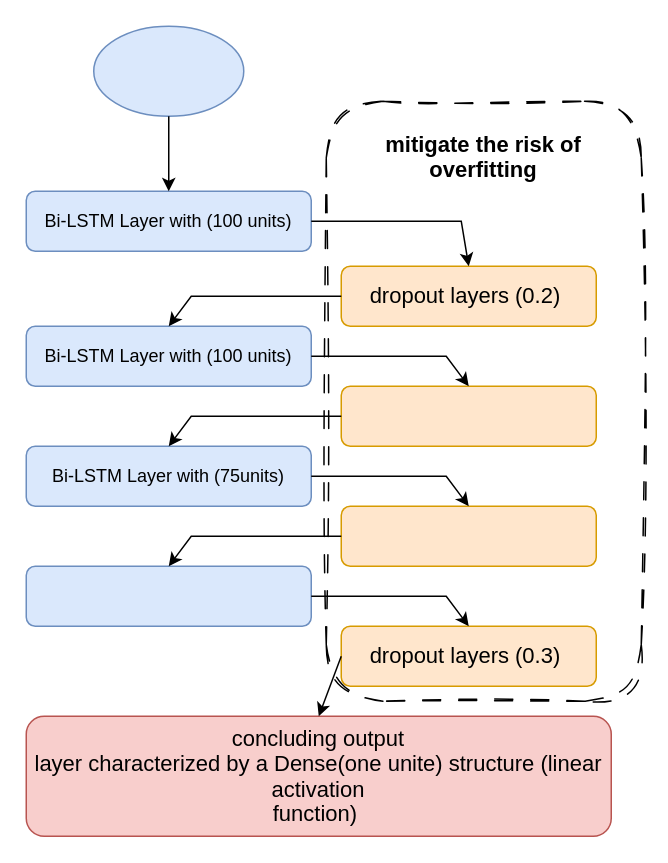
This 668x863 diagram has some shape labels left out. The shapes that lost their labels are listed below. From the top down, each one's centre as x and y in pixels, then its label:
[168,70]: input data shape
[468,415]: dropout layers (0.2)
[468,535]: dropout layers (0.25)
[168,595]: Bi-LSTM Layer with (50units)
